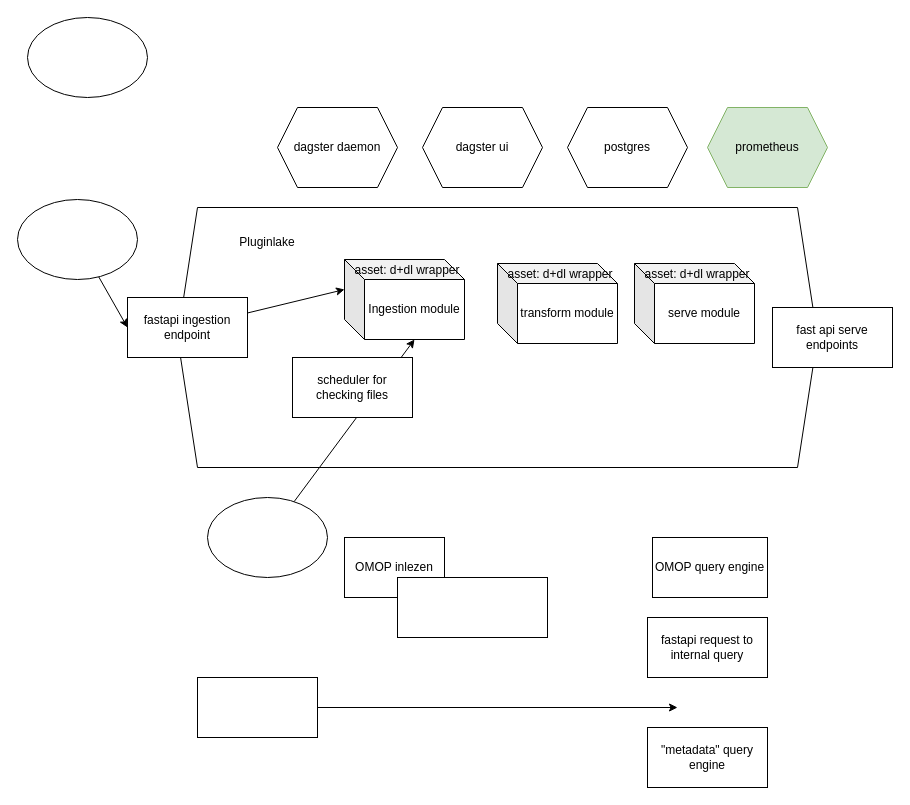
Image size: 910x805. Some labels were removed from this diagram. The shapes that lost their labels are listed below. From the top down, each one's centre as x and y in pixels, then its label:
point 87,57: Blijven we in de hele pipeline in OMOP?
point 77,239: API
point 267,537: local files
point 472,607: OMOP validatie a.h.v. controlled vocabularies
point 257,707: authC/authZ in fastapi dummy middleware
